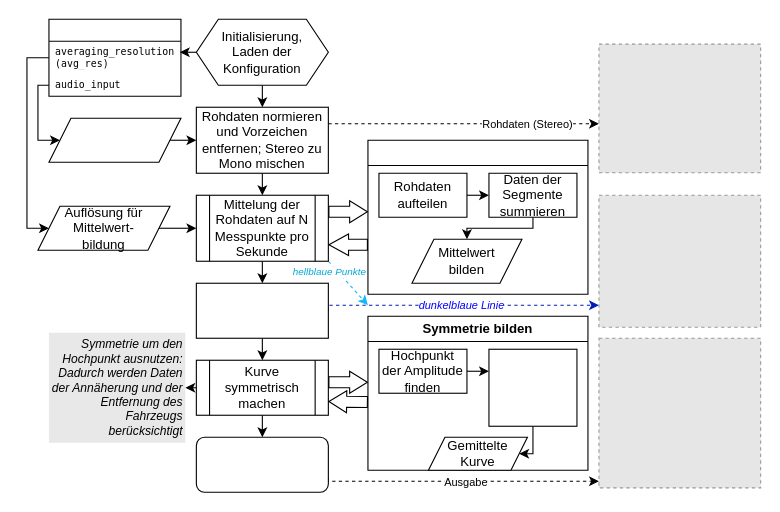
Image size: 780x512. Some labels were removed from this diagram. Grey dashed boxes stand in for pictures. Here are the shapes that lost their labels. From the top down, the box of each, then its label:
(48, 18, 181, 96): Konfiguration
(48, 117, 181, 162): Audio-Rohdaten (Stereo)
(367, 139, 588, 294): Mittelungsfunktion
(195, 282, 328, 338): Glätten der Mittelwerts-Kurve (Gaußscher Filter)
(488, 348, 577, 426): Ausgehend vom Hochpunkt alle Daten mitteln
(195, 436, 328, 492): Fertig : Symmetrische Kurve erstellt
